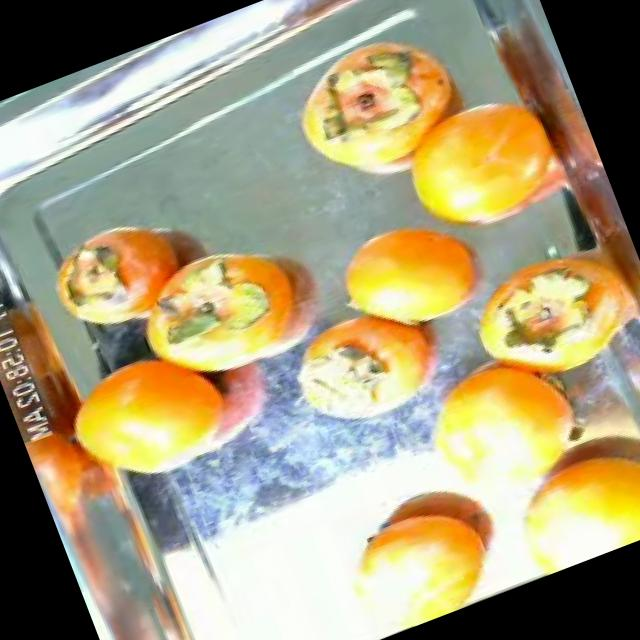Fruit: (36, 303, 288, 525), (362, 56, 604, 277), (260, 0, 501, 219), (22, 182, 239, 358), (310, 183, 512, 354)
